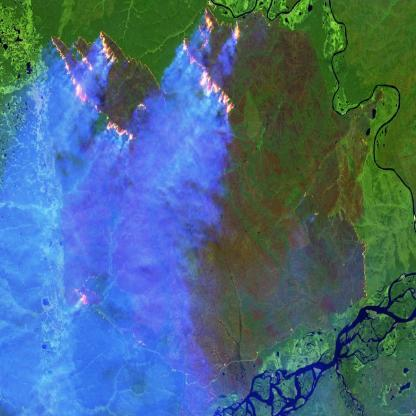fire: (46, 28, 166, 311), (181, 5, 242, 119)
